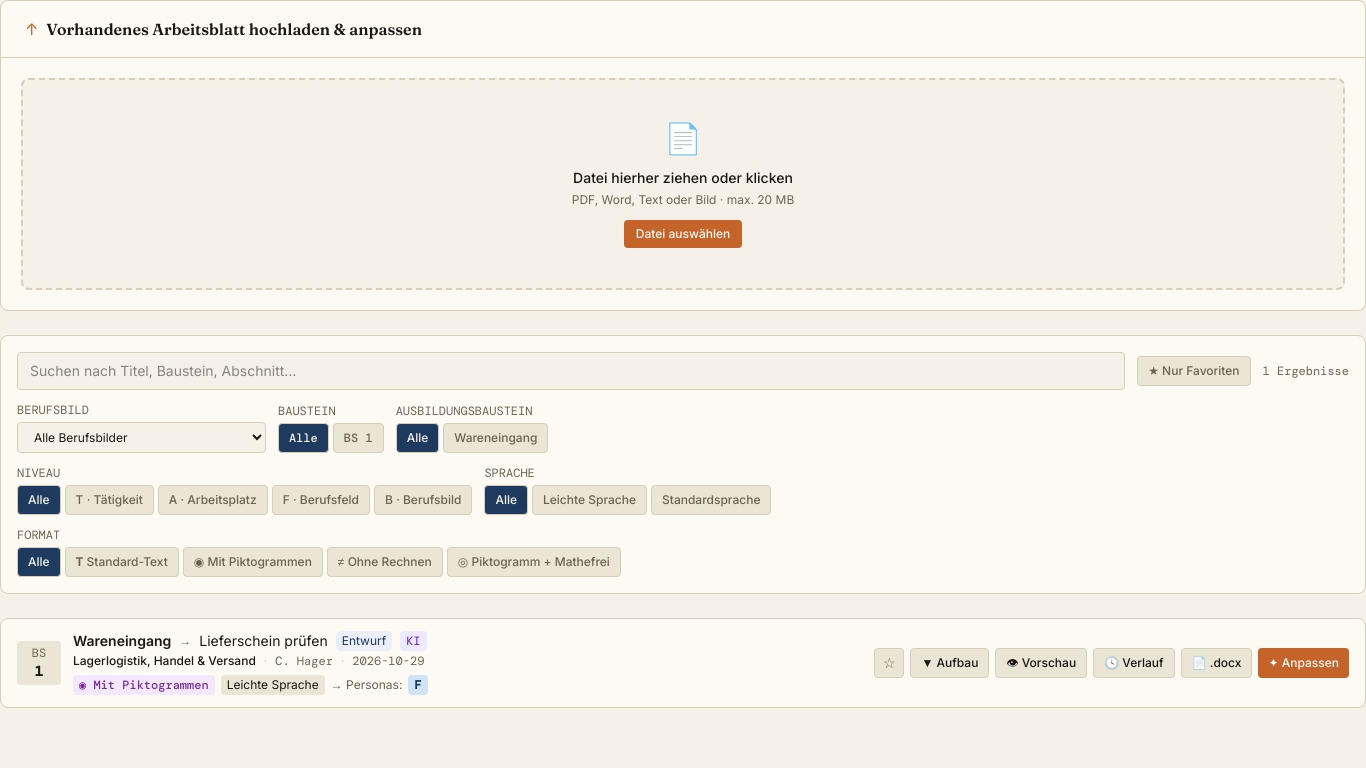
Test case: Arbeitsblätter aus dem Backend › lädt den Verlauf aus dem Backend
The width and height of the screenshot is (1366, 768).
Click the button "🕓 Verlauf" at (1134, 663), box [1093,648,1175,678]
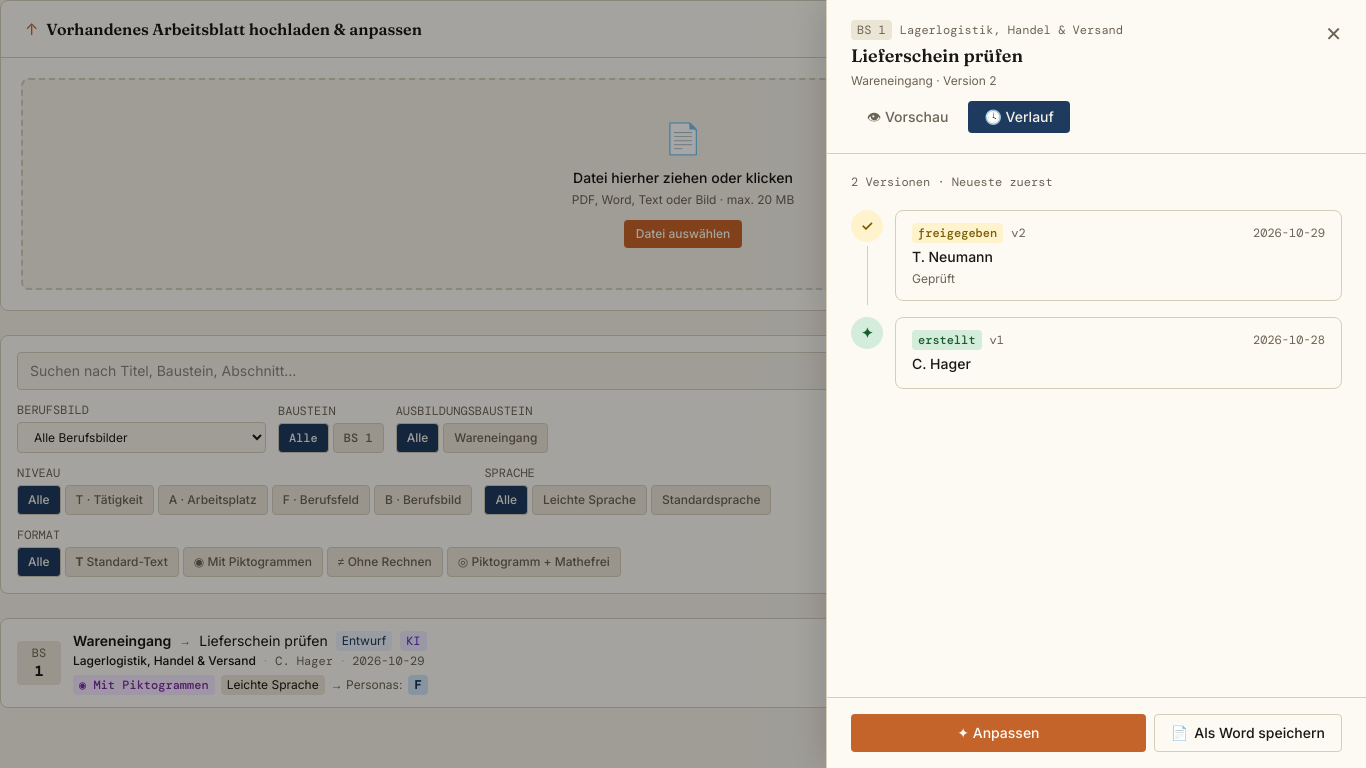
Check: the text "2 Versionen · Neueste zuerst" is shown, box [851,174,1053,190]
Check: the text "T. Neumann" is shown, box [912,248,993,265]
Check: the text "Geprüft" is shown, box [912,271,955,286]
